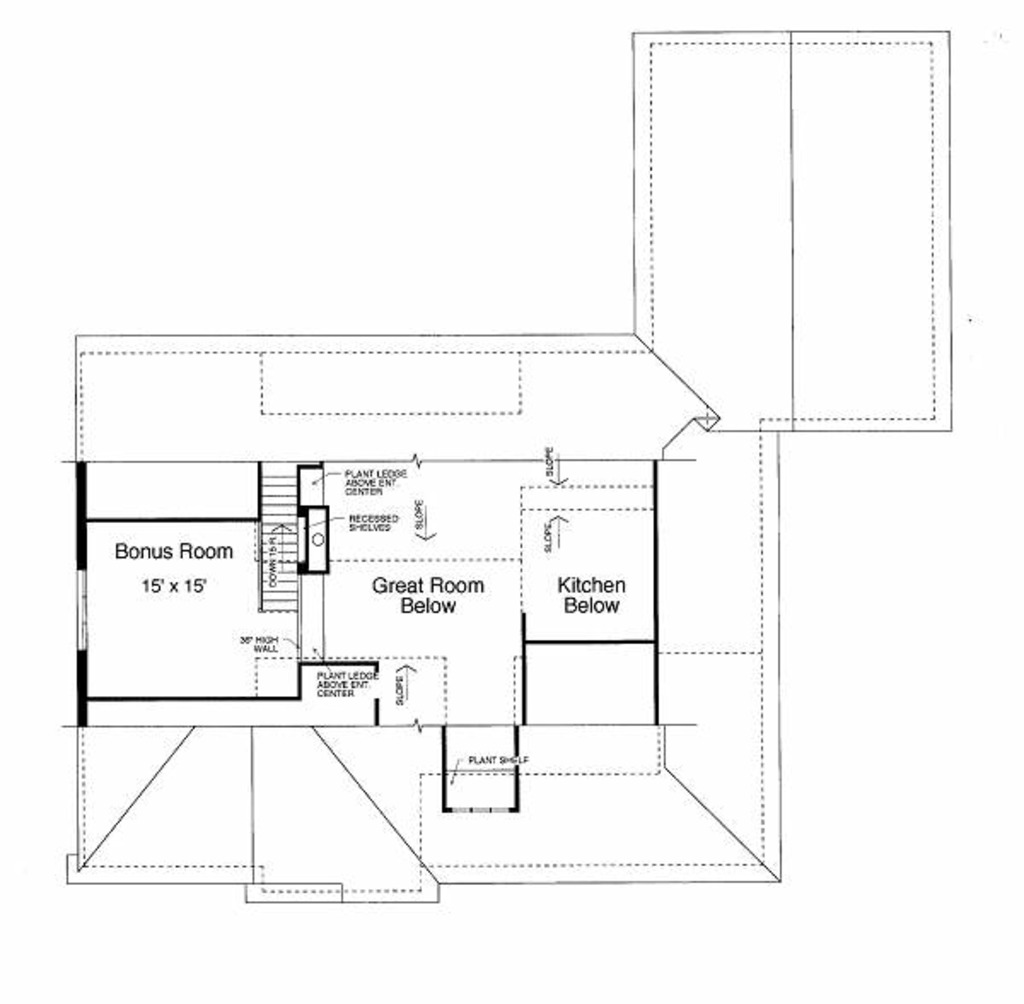stairs: (246, 461, 308, 624)
window: (71, 561, 100, 666), (439, 804, 515, 815)
